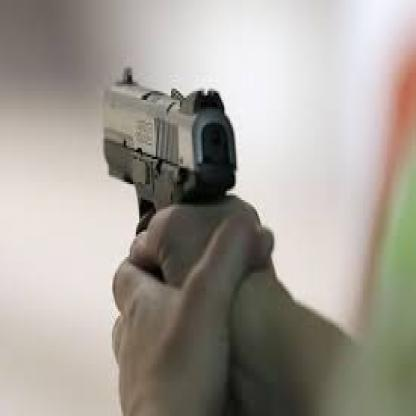Pistol: (76, 45, 248, 307)
